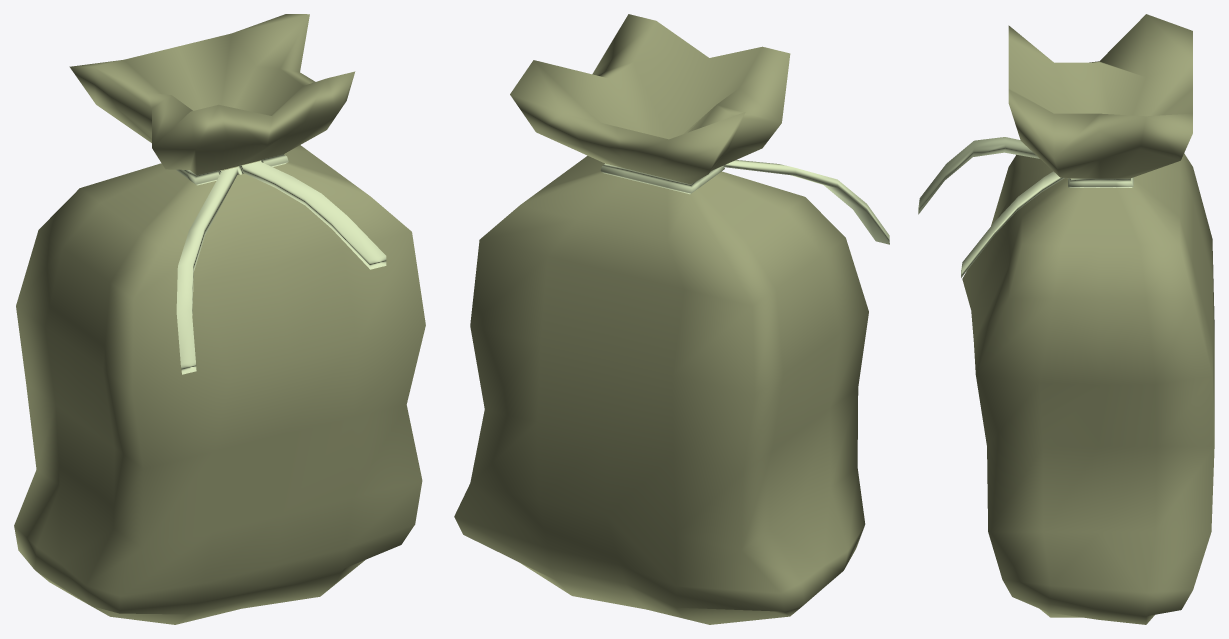
Rendered from costal.fbx.
3 renders of one model, left to right at view 1: azimuth 30°, elevation 25°; view 2: azimuth 150°, elevation 25°; view 3: azimuth 270°, elevation 25°, orthographic. The views are drawn at different scales.
Visible parts, largest first — view 1: costal; view 2: costal; view 3: costal.
Part boxes in pixels (box(x1,y1,x2,y2)): costal: box(14, 14, 425, 624); costal: box(454, 14, 889, 624); costal: box(918, 14, 1214, 624).
Size of the model in its own units: 4.98 by 7.71 by 3.97.
